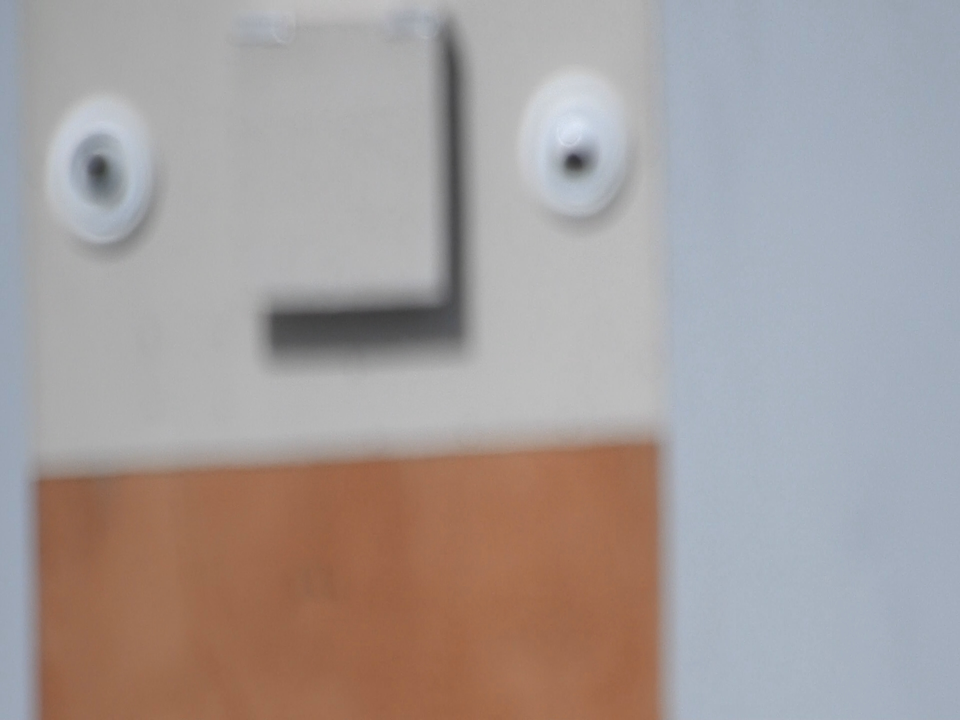facade: (44, 19, 631, 312)
